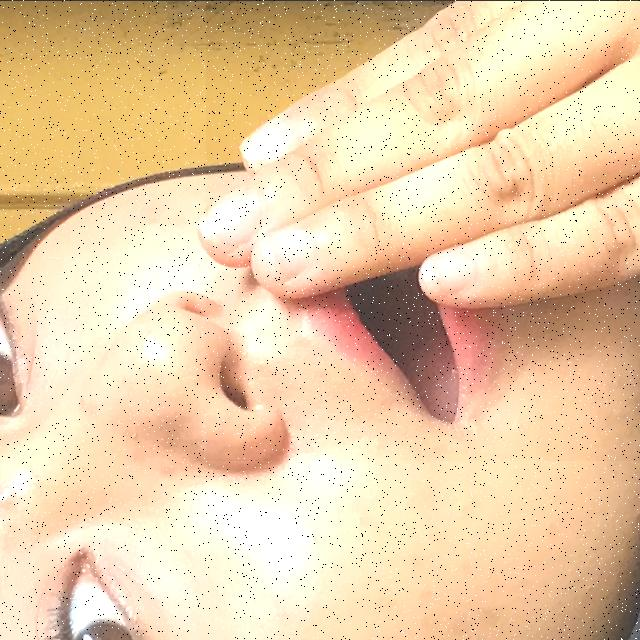ngantuk: (206, 0, 640, 460)
